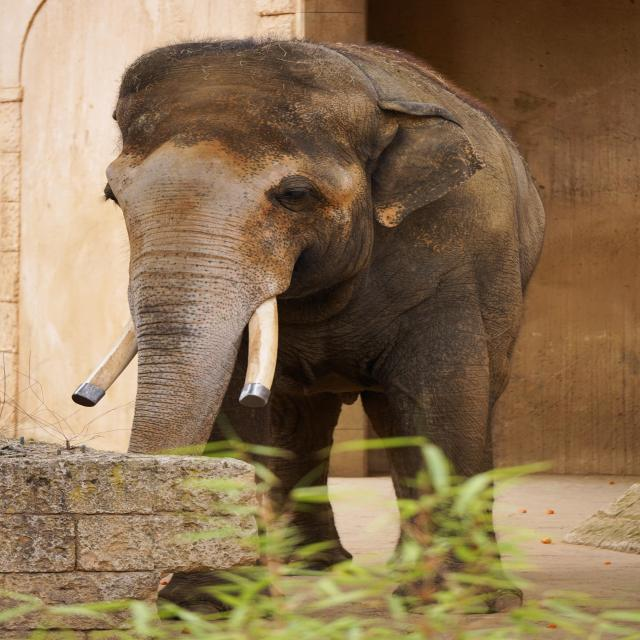Elephant: (100, 37, 546, 611)
